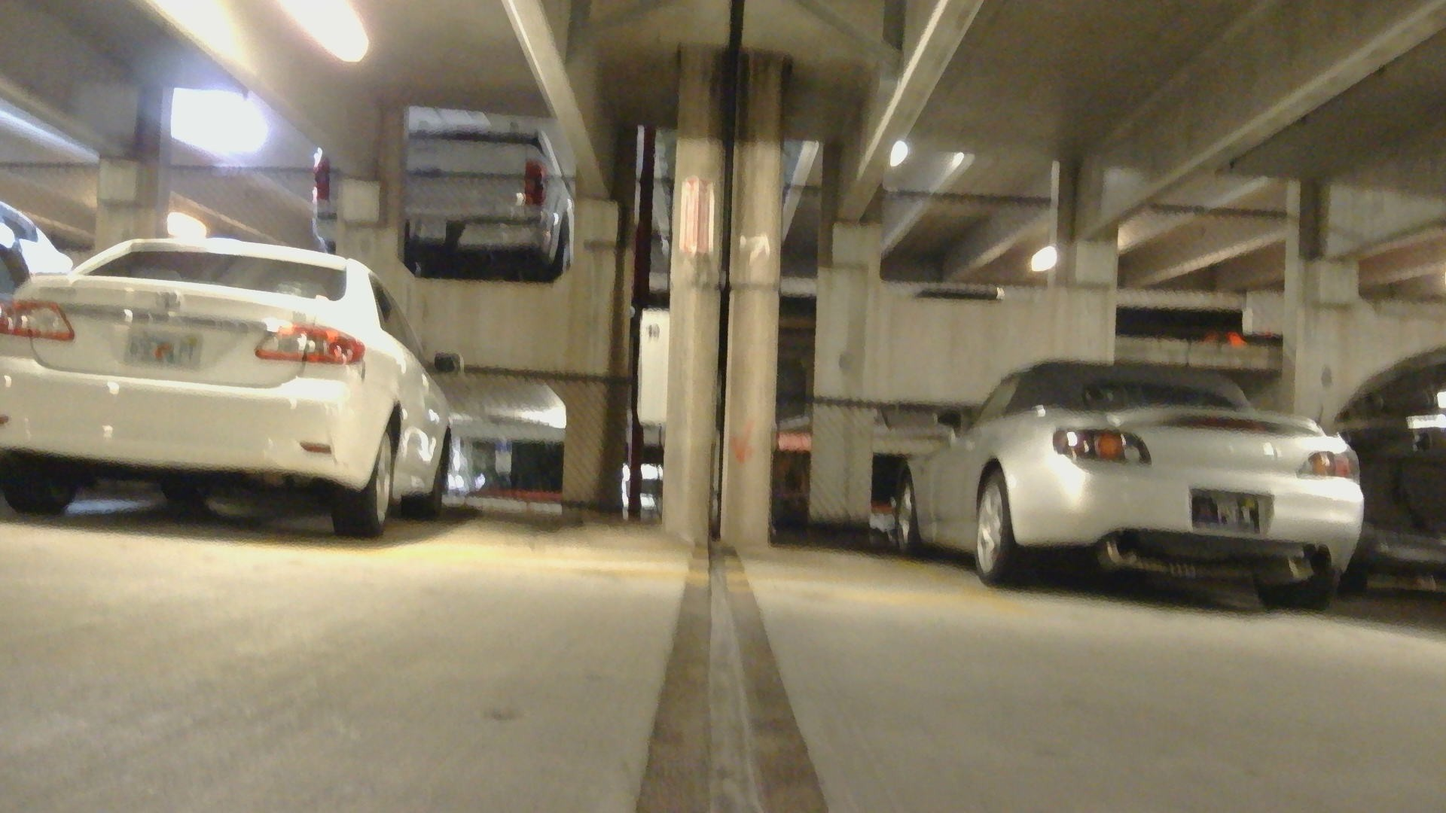occupied_spot: (0, 217, 486, 571), (880, 343, 1367, 611)
